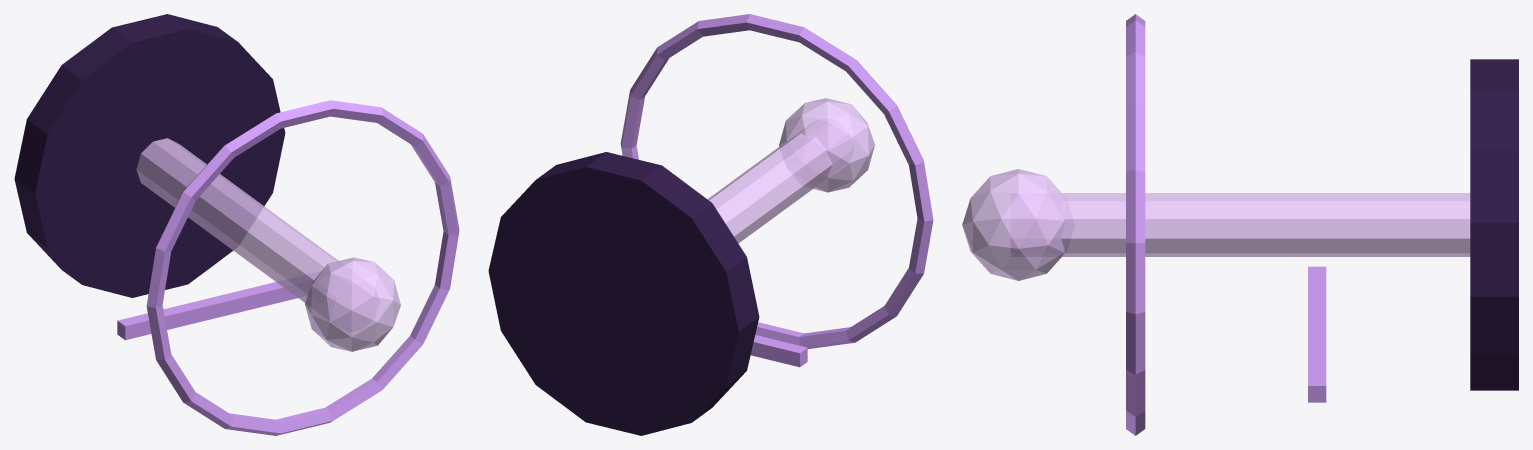
File: 08_support_npc_assist_marker.glb
3 views of the same model, side by side, from view 1: azimuth 30°, elevation 25°; view 2: azimuth 150°, elevation 25°; view 3: azimuth 270°, elevation 25° (orthographic). The views are drawn at different scales.
Visible parts, largest first — view 1: assist_beacon_base, support_lock_ring, assist_column, npc_signal_core, support_direction_marker; view 2: assist_beacon_base, support_lock_ring, assist_column, npc_signal_core, support_direction_marker; view 3: assist_column, assist_beacon_base, npc_signal_core, support_lock_ring, support_direction_marker.
Boxes of the visible parts, bbox=[...] form: assist_beacon_base: bbox=[14, 14, 285, 297]; support_lock_ring: bbox=[146, 100, 459, 435]; assist_column: bbox=[136, 138, 338, 302]; npc_signal_core: bbox=[305, 257, 400, 351]; support_direction_marker: bbox=[117, 271, 320, 340]; assist_beacon_base: bbox=[488, 152, 759, 435]; support_lock_ring: bbox=[620, 14, 933, 348]; assist_column: bbox=[707, 133, 832, 243]; npc_signal_core: bbox=[779, 98, 874, 192]; support_direction_marker: bbox=[750, 335, 807, 367]; assist_column: bbox=[1061, 193, 1470, 256]; assist_beacon_base: bbox=[1470, 59, 1518, 390]; npc_signal_core: bbox=[962, 169, 1065, 280]; support_lock_ring: bbox=[1126, 14, 1145, 435]; support_direction_marker: bbox=[1308, 266, 1326, 402].
Size of the model in its own units: 1.05 by 1.03 by 1.38.
